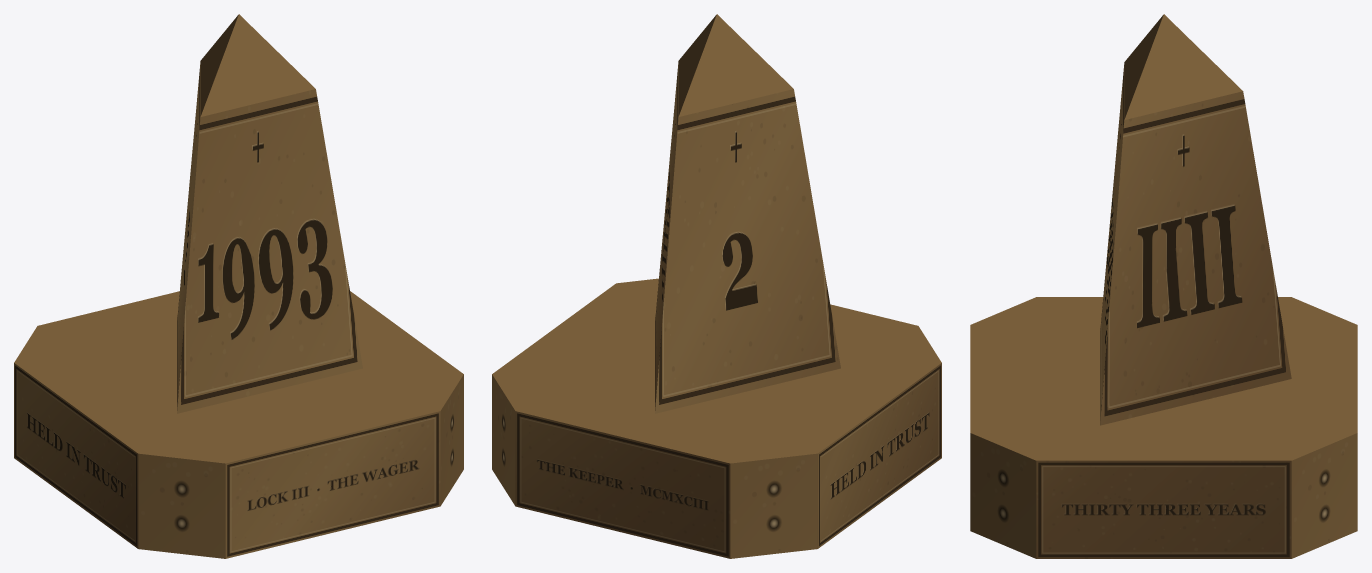
Rendered from witnessWager.glb.
The picture shows the model from 3 angles, left to right: view 1: azimuth 30°, elevation 25°; view 2: azimuth 150°, elevation 25°; view 3: azimuth 270°, elevation 25°; orthographic projection. The views are drawn at different scales.
Parts seen in each view (by area): view 1: witnessWager; view 2: witnessWager; view 3: witnessWager.
Part boxes in pixels (x1,y1,x2,y2): witnessWager: [14, 14, 463, 558]; witnessWager: [492, 14, 941, 558]; witnessWager: [970, 14, 1357, 558].
Size of the model in its own units: 0.1 by 0.132 by 0.1.
Materials: 1 (1 with a texture image).
